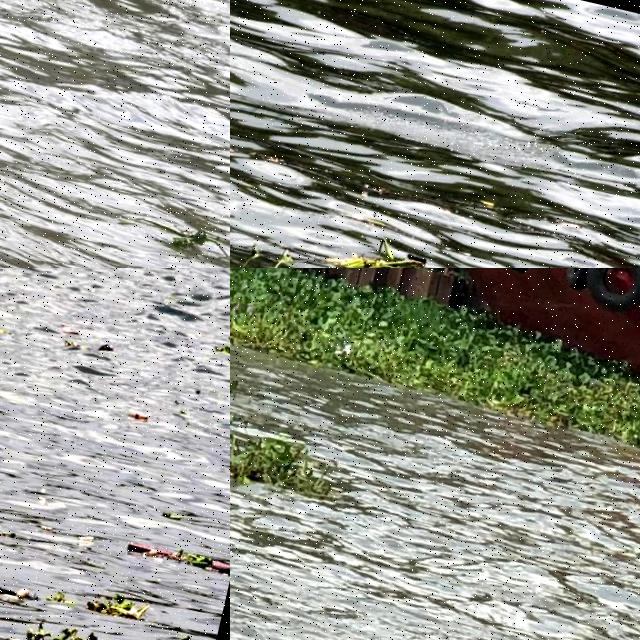water-hyacinth: (231, 269, 640, 475), (231, 393, 347, 508), (9, 597, 216, 640), (1, 570, 117, 640), (146, 206, 231, 267), (85, 582, 151, 627)
